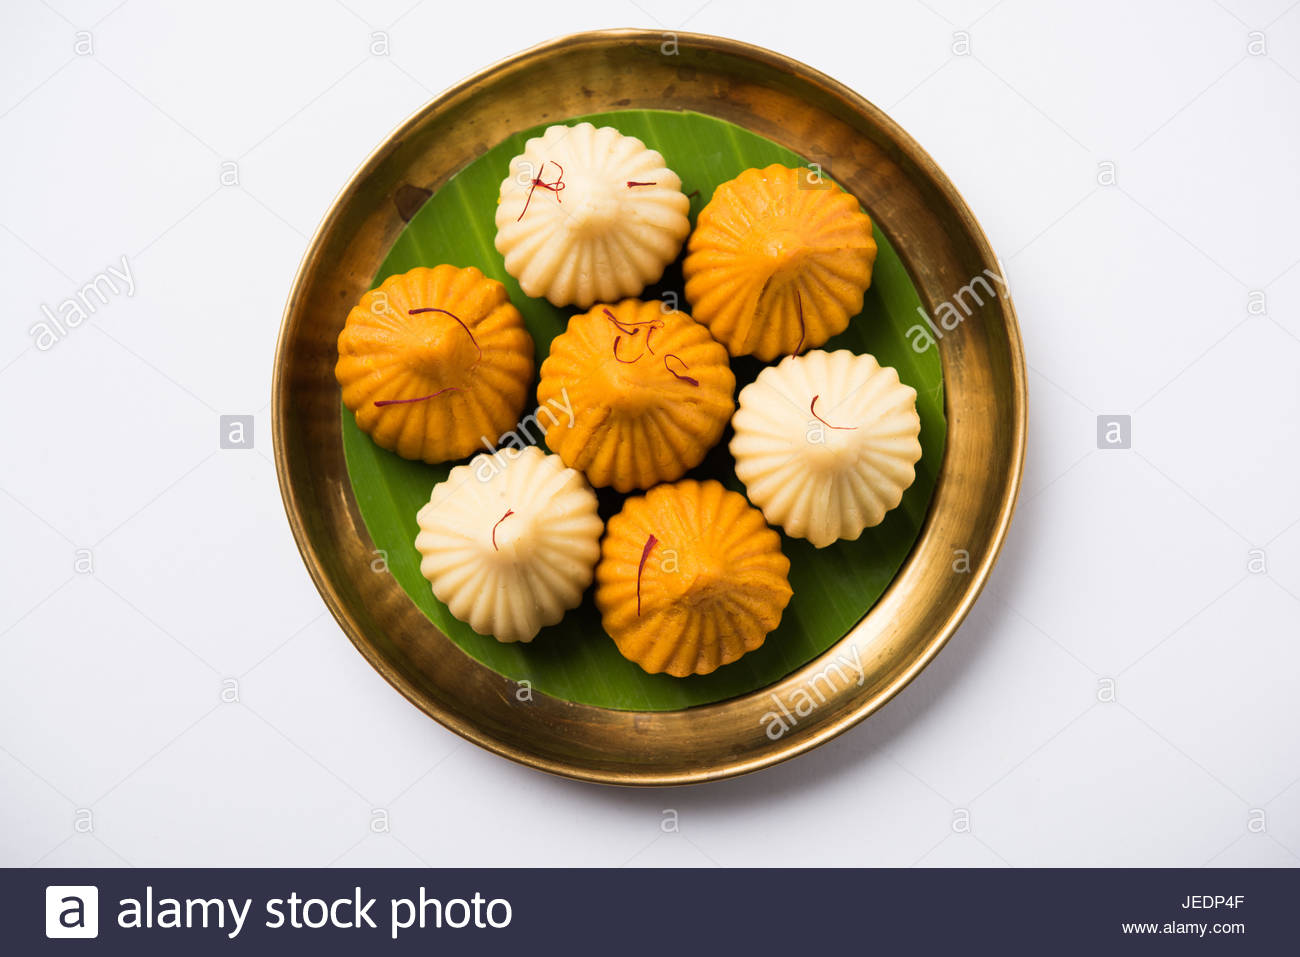modak: (595, 462, 792, 681), (744, 357, 945, 566), (495, 133, 709, 311), (528, 318, 736, 477), (699, 174, 881, 354), (339, 274, 527, 445), (431, 457, 595, 635)
